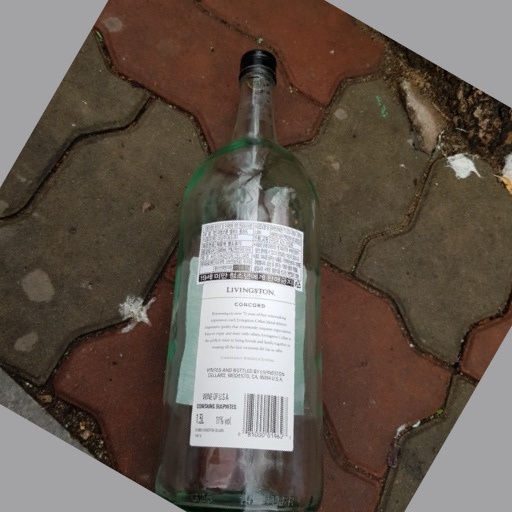Glass_2: (158, 47, 325, 511)
